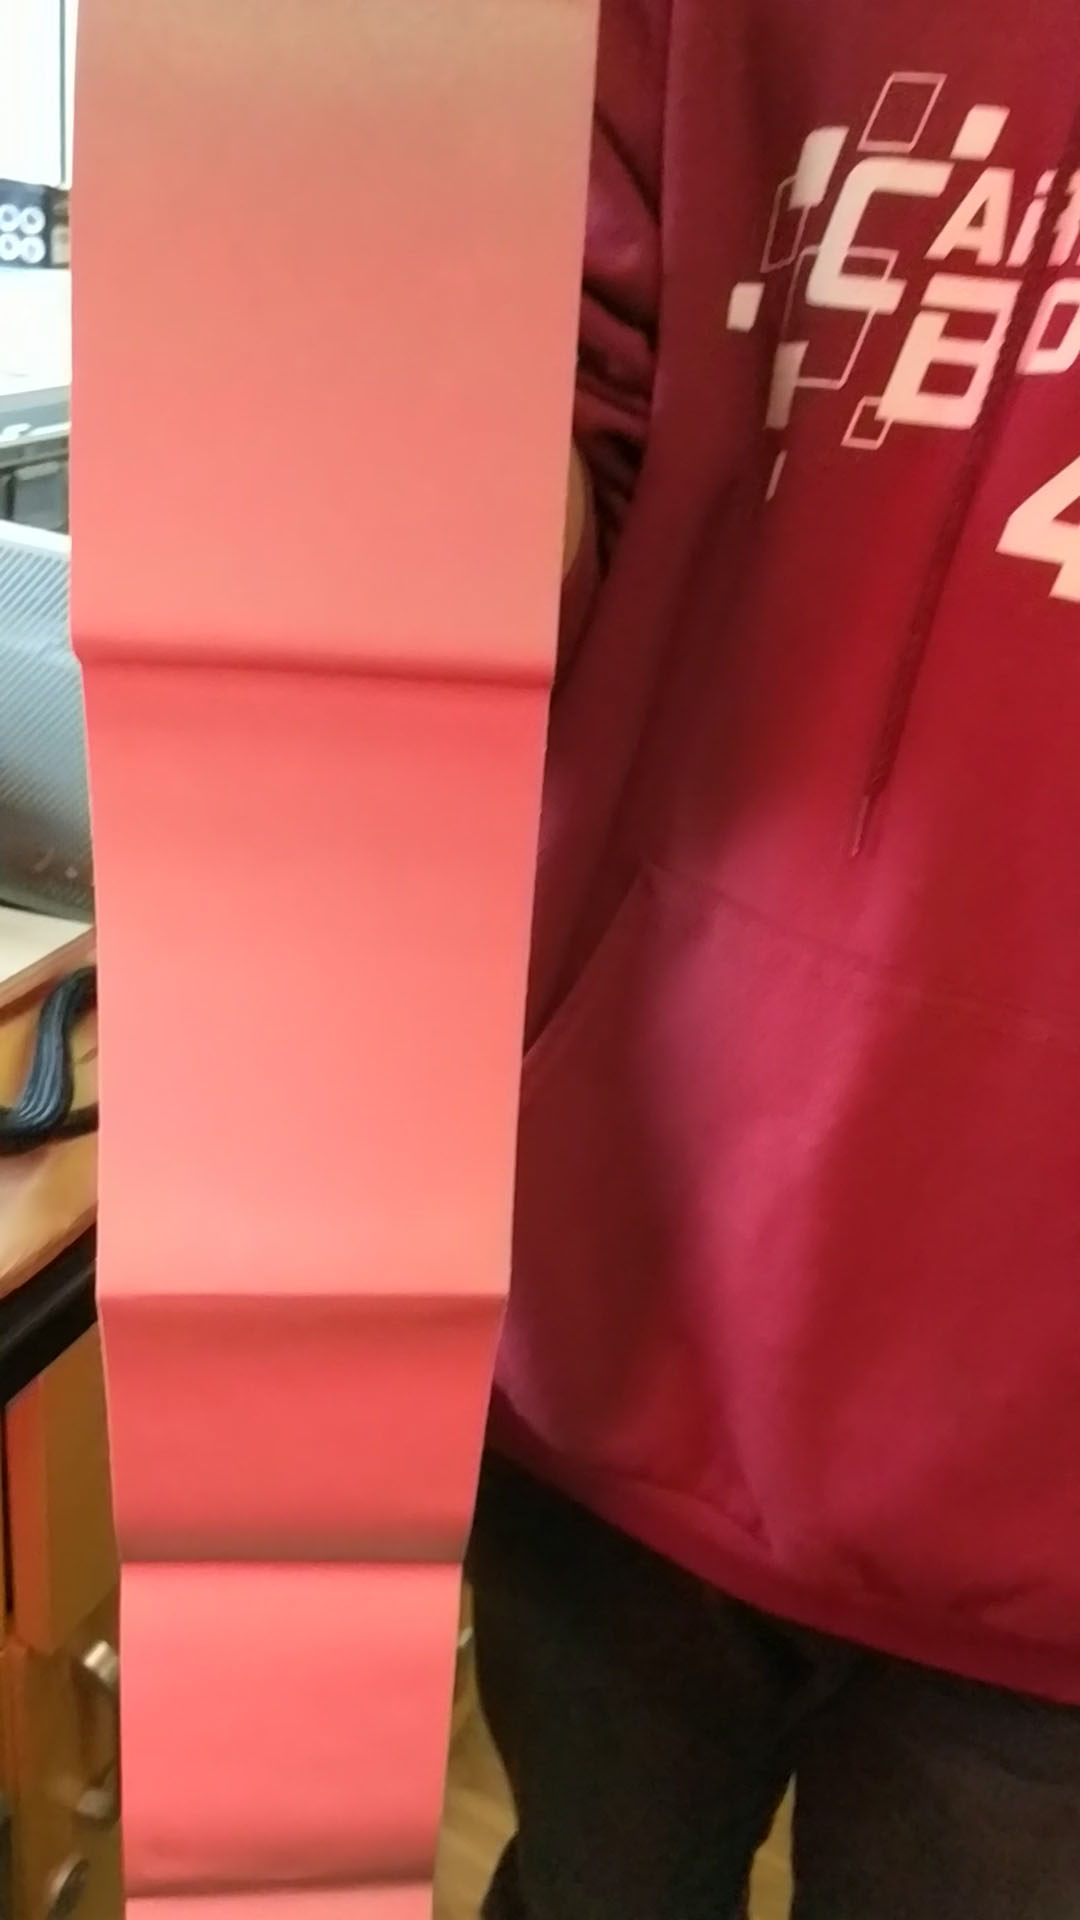gear: (73, 0, 592, 1920)
